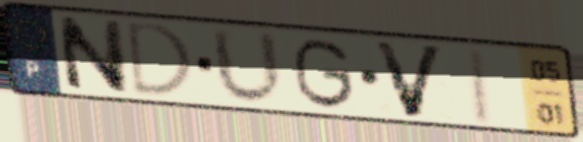D: (125, 19, 197, 99)
G: (291, 36, 358, 112)
I: (468, 44, 496, 128)
N: (53, 13, 132, 97)
U: (206, 24, 289, 109)
V: (369, 38, 450, 121)
